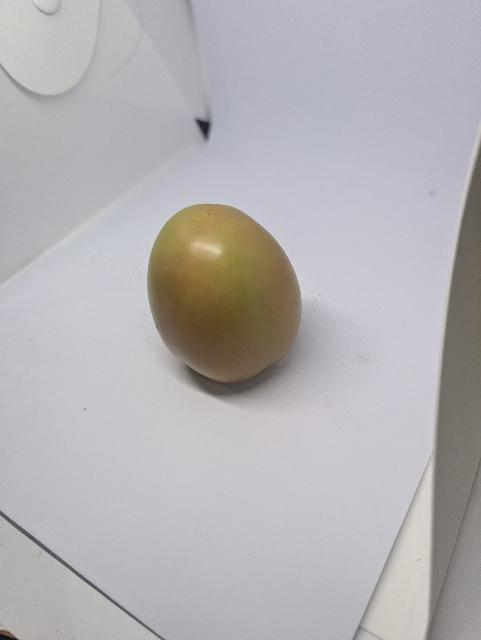breaker: (148, 204, 302, 383)
